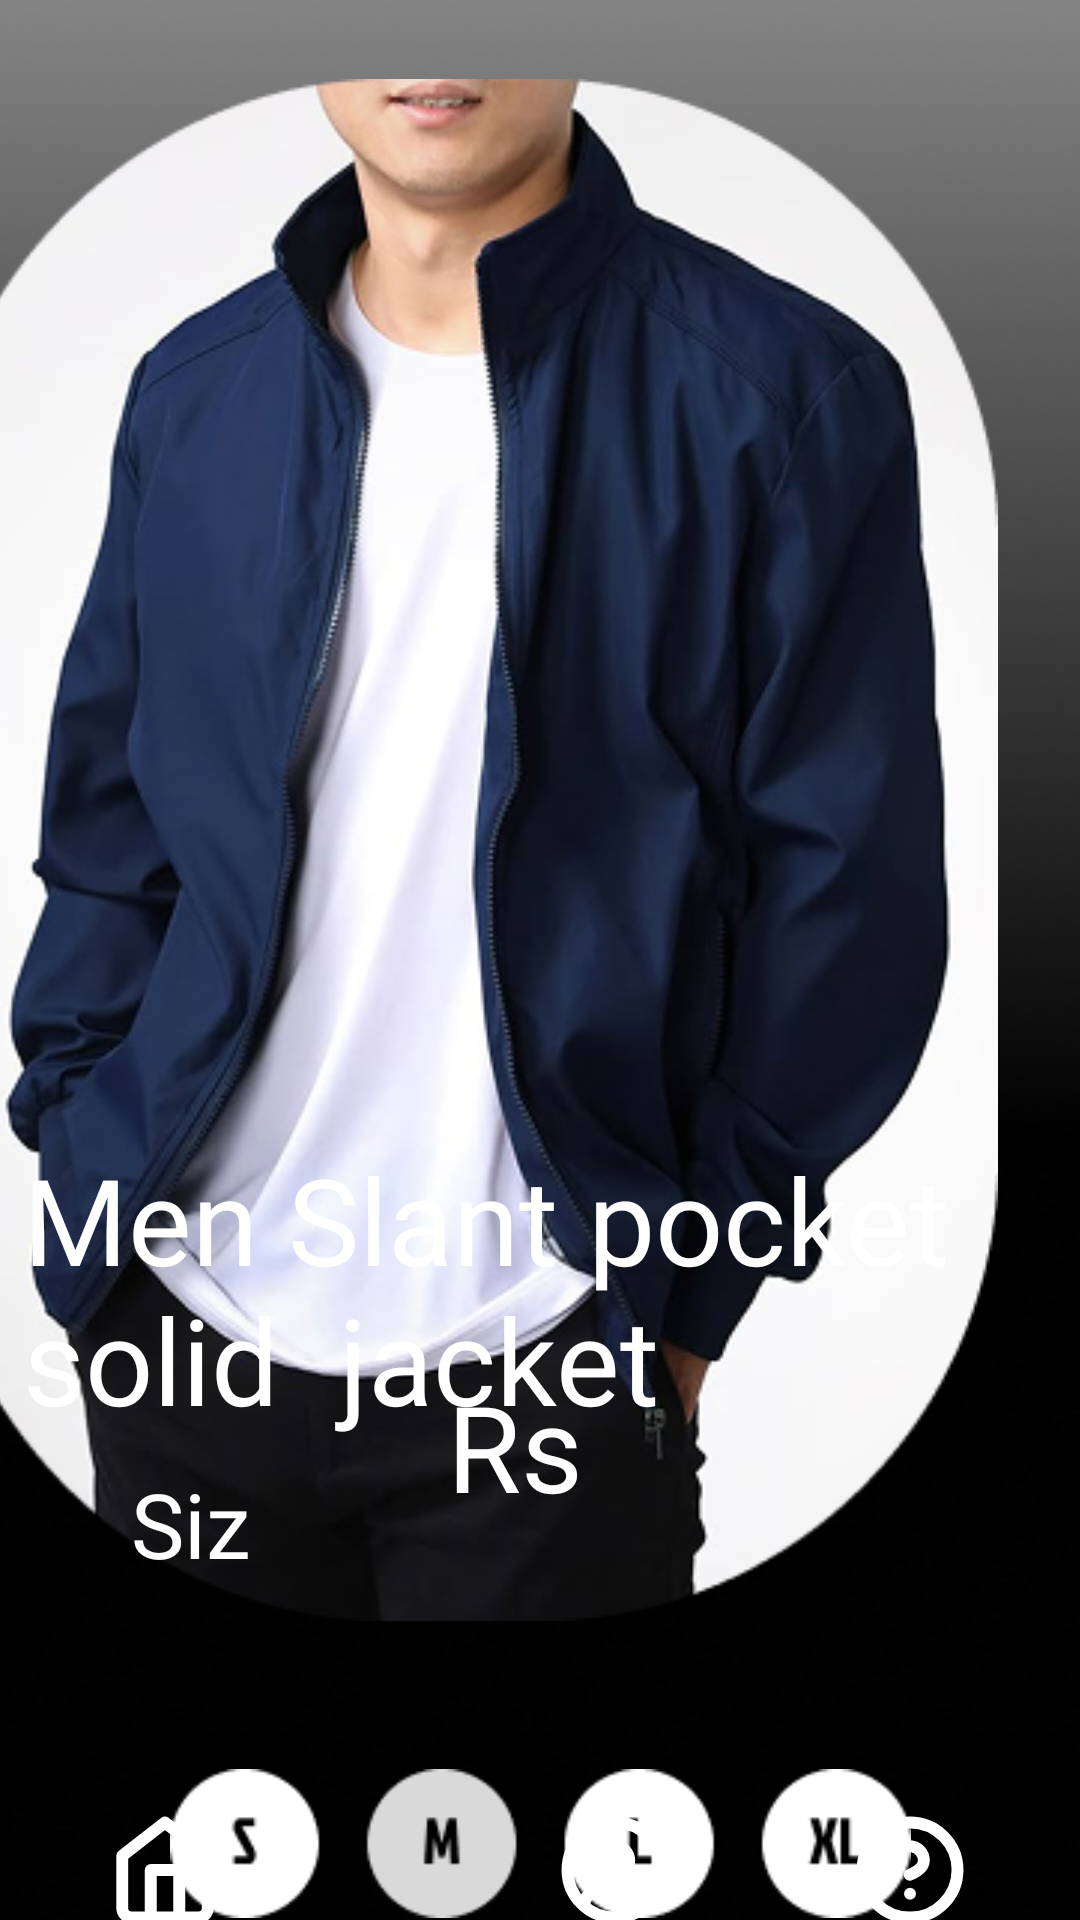

Screen size 1080px x 1920px. Icon name, then its center in pixels as point (x, y):
home: point (165, 1866)
